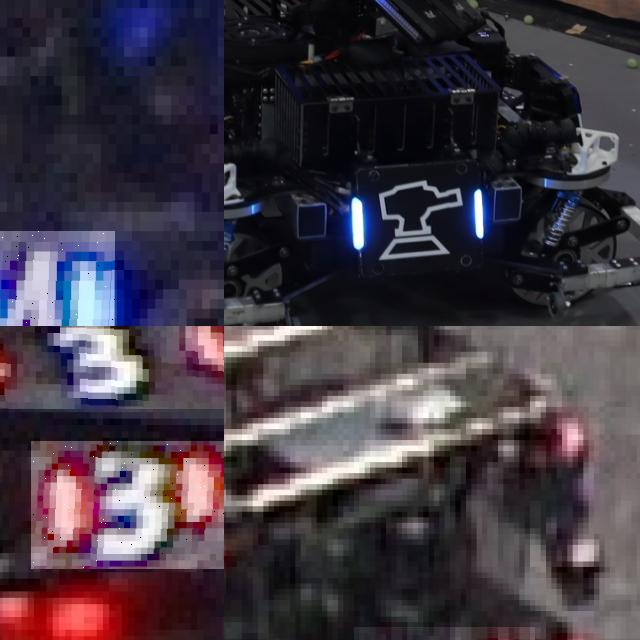B4: (0, 231, 116, 326)
Bs: (352, 170, 489, 265)
R3: (30, 441, 224, 569), (0, 326, 224, 409)
